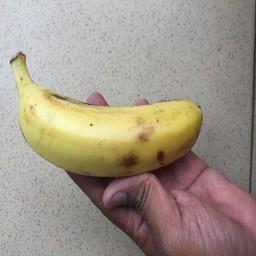Good_banana: (10, 100, 207, 178)
